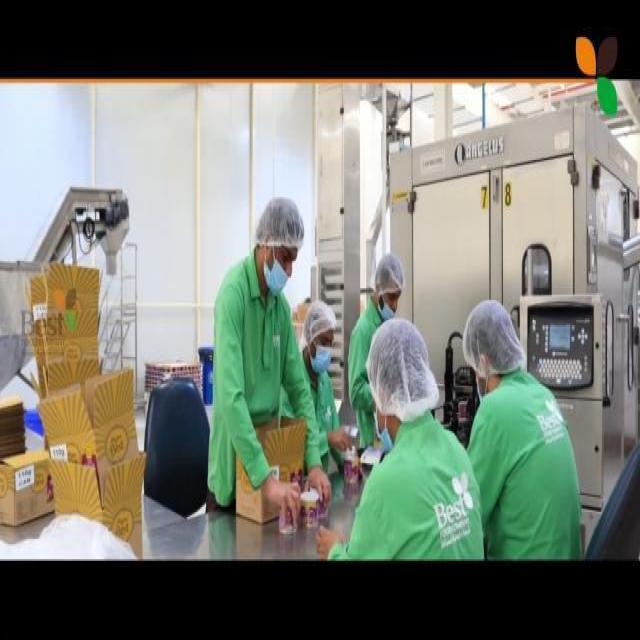bare_hand: (258, 455, 303, 524), (300, 458, 340, 529), (323, 413, 361, 463), (310, 512, 346, 563)
